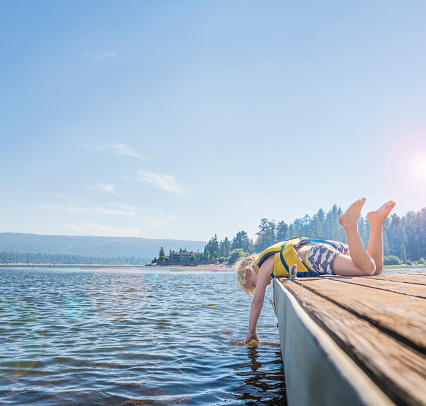deitado: (221, 206, 395, 318)
